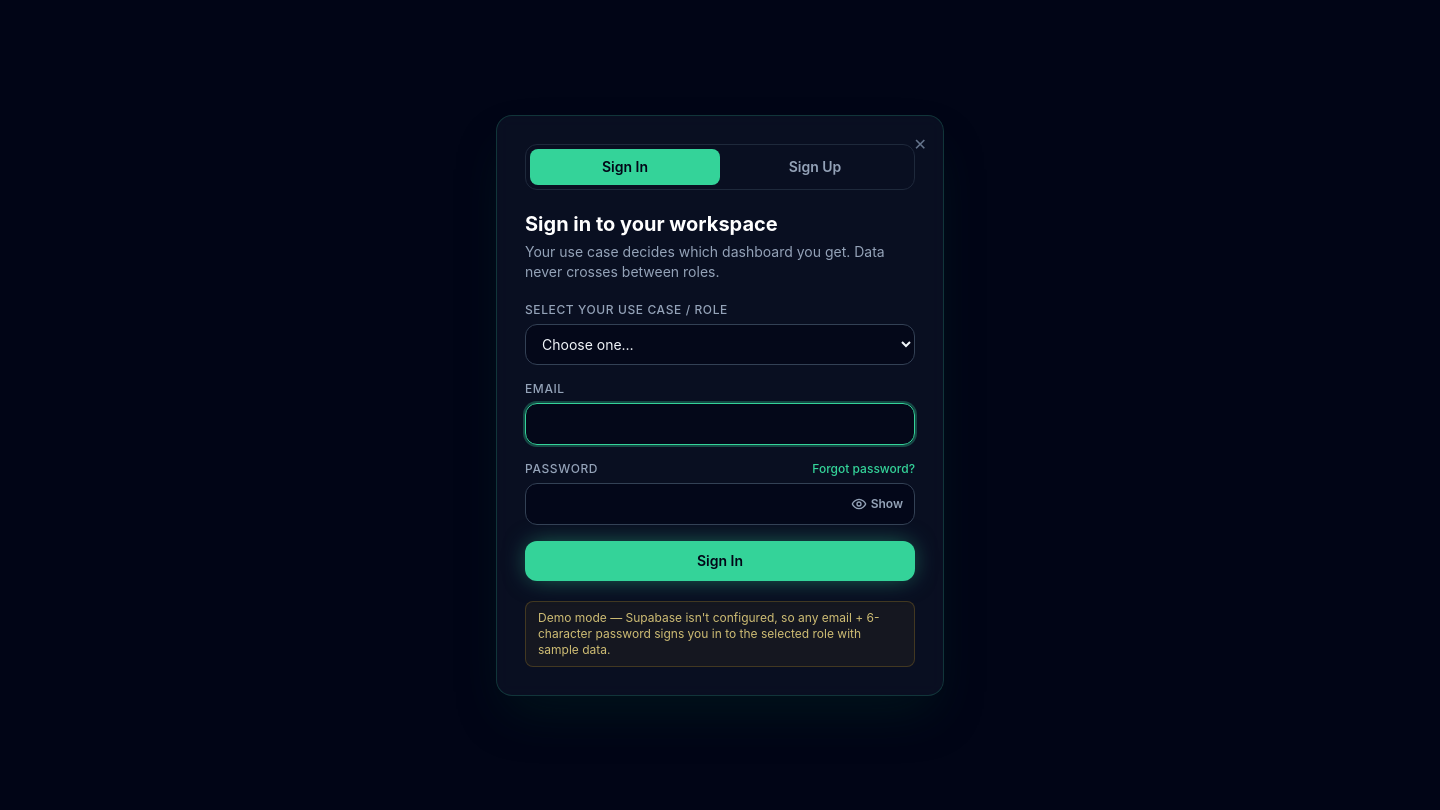
Test: AuthModal › surfaces a rejected sign in and stays put
This screenshot has width=1440, height=810.
Step 1. Select "Independent Artist" in the dropdown labelled "Select your use case / role" → x=720, y=344, box [525, 324, 915, 364]
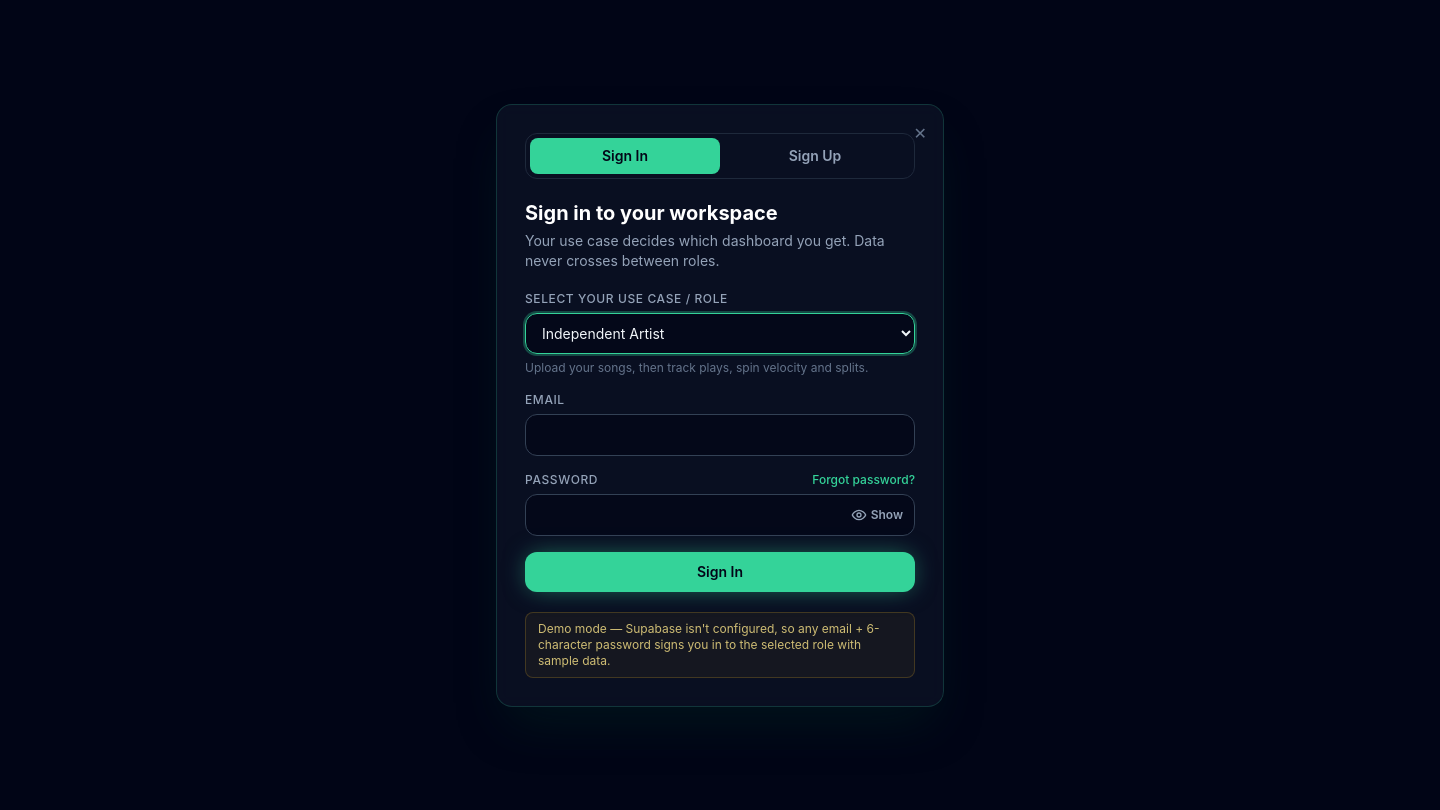
Step 2. Type "artist@example.com" into the field labelled "Email" → x=720, y=434, box [525, 414, 915, 456]
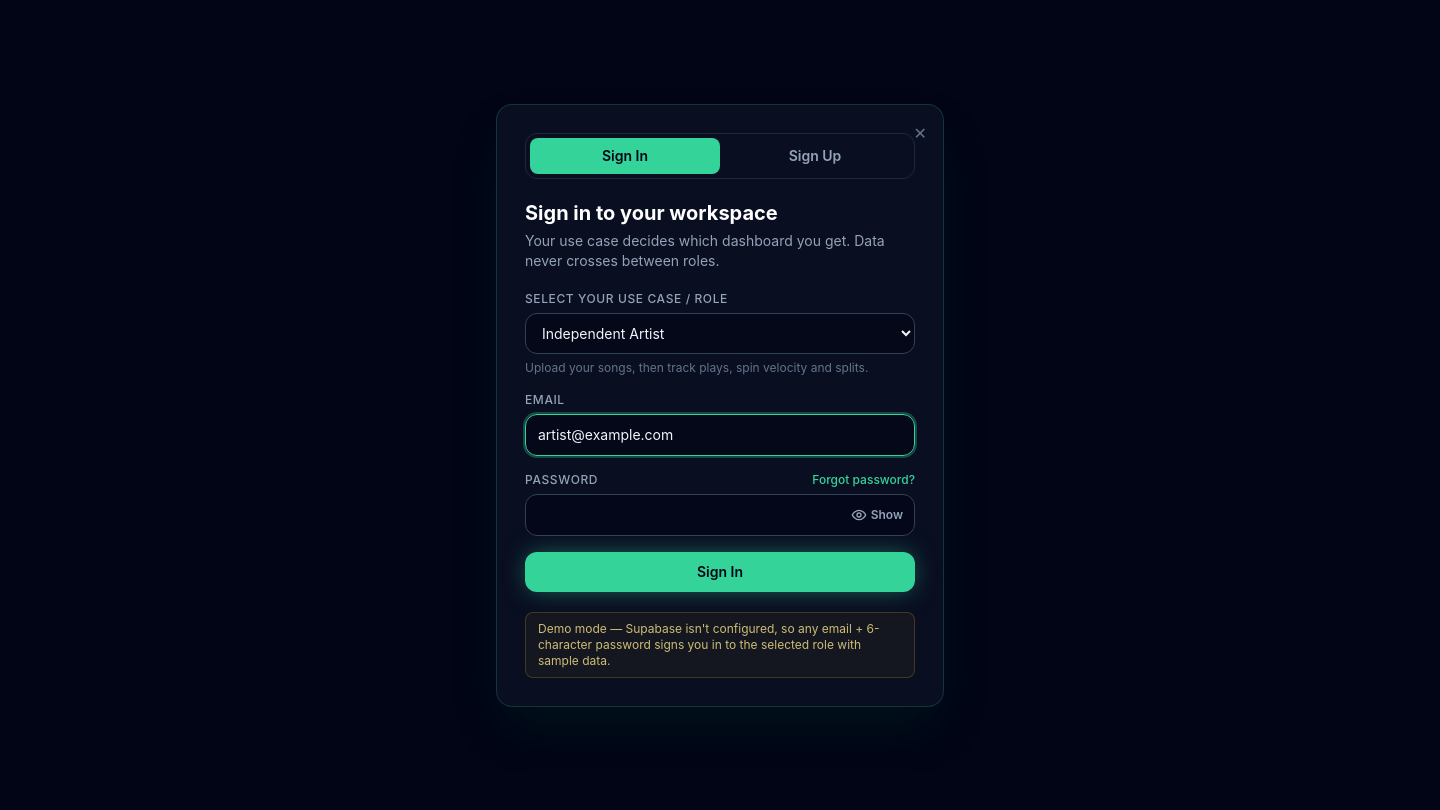
Step 3. Type "wrongpass" into the password field labelled "Password" → x=720, y=514, box [525, 494, 915, 536]
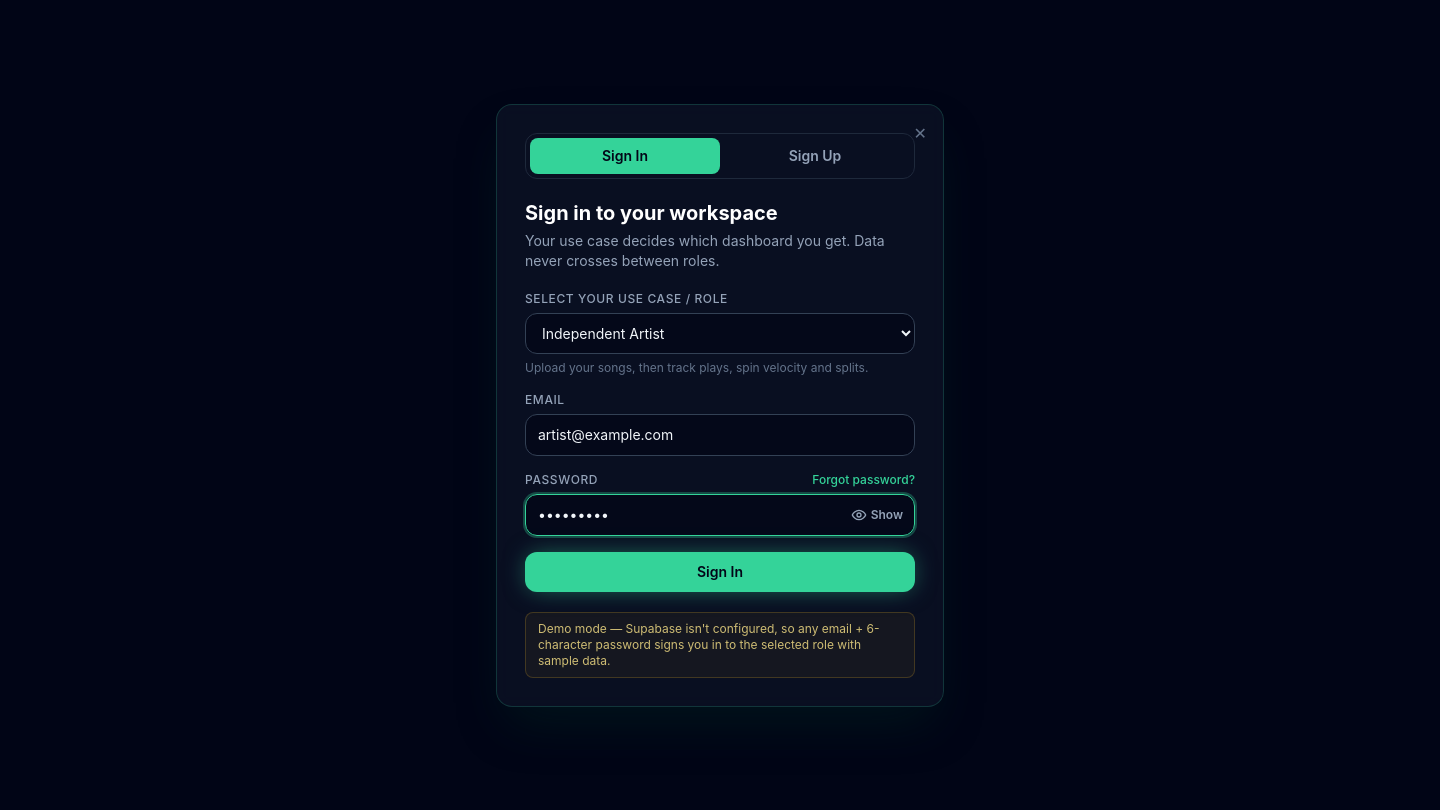
Step 4. Click the submit button → x=720, y=572, box [525, 552, 915, 592]
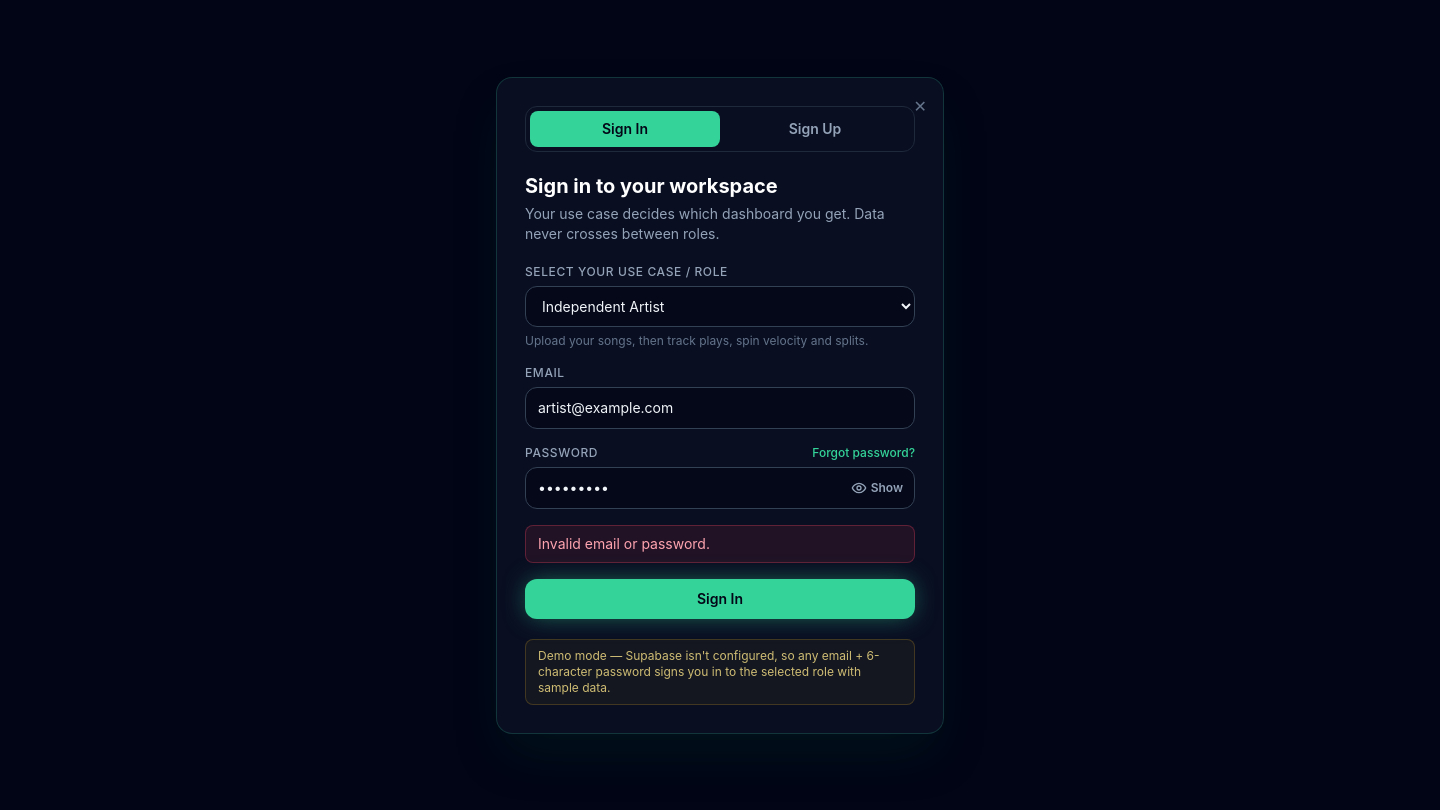
Result: the message reads "Invalid email or password." at [538, 534, 710, 552]
